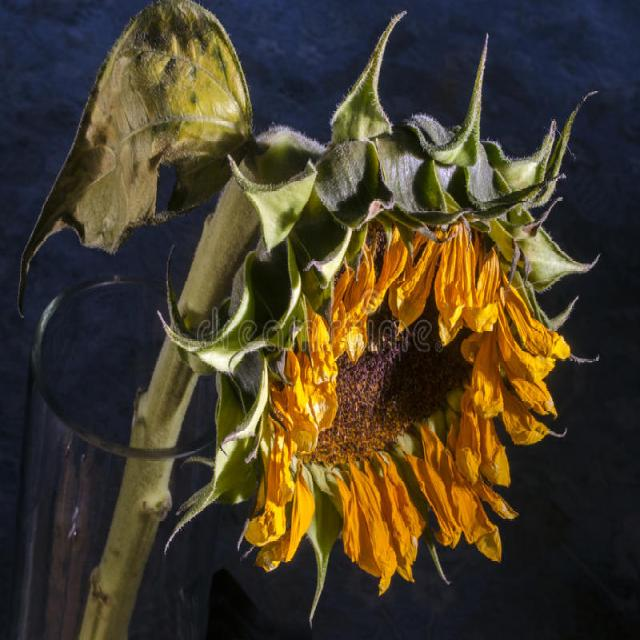sunflower: (171, 49, 595, 608)
